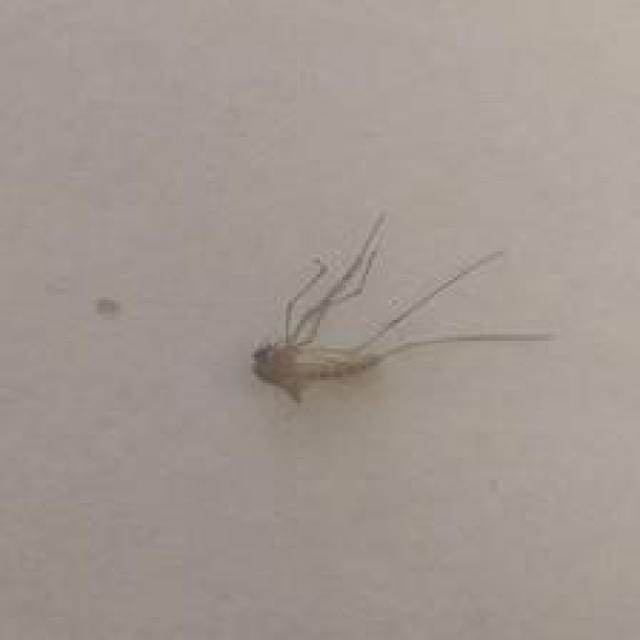Culex: (250, 208, 553, 406)
